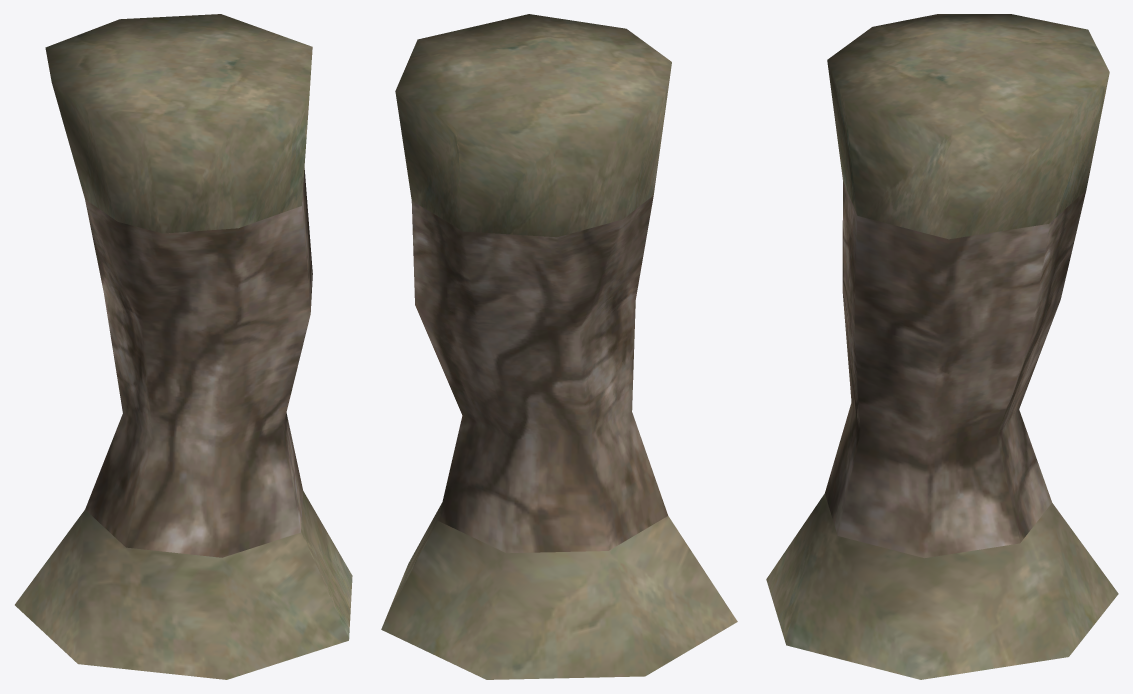
File: EKH_CAVERNS_PS_CA_PLAT473639__GX.fbx
3 renders of one model, left to right at view 1: azimuth 30°, elevation 25°; view 2: azimuth 150°, elevation 25°; view 3: azimuth 270°, elevation 25°, orthographic. The views are drawn at different scales.
Visible parts, largest first — view 1: EKH_CAVERNS_PS_CA_PLAT473639__GX; view 2: EKH_CAVERNS_PS_CA_PLAT473639__GX; view 3: EKH_CAVERNS_PS_CA_PLAT473639__GX.
Boxes of the visible parts, x1,y1,x2,y2 form: EKH_CAVERNS_PS_CA_PLAT473639__GX: (15, 14, 352, 679); EKH_CAVERNS_PS_CA_PLAT473639__GX: (381, 14, 737, 679); EKH_CAVERNS_PS_CA_PLAT473639__GX: (766, 14, 1118, 679).
Bounding box in the file's own units: 22788 × 39129 × 22865.
2 materials, 2 textured.
